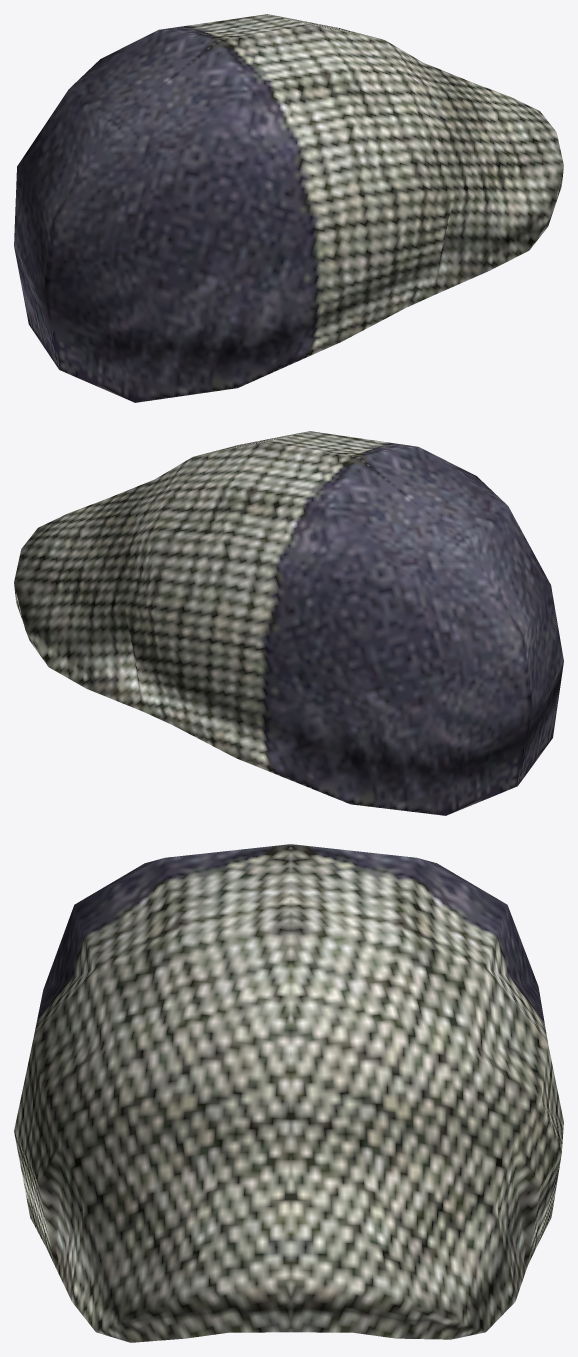
The model's file is hat_0400033.FBX.
The picture shows the model from 3 angles, top to bottom: view 1: azimuth 30°, elevation 25°; view 2: azimuth 150°, elevation 25°; view 3: azimuth 270°, elevation 25°; orthographic projection. The views are drawn at different scales.
Parts seen in each view (by area): view 1: hat_0400033; view 2: hat_0400033; view 3: hat_0400033.
Boxes of the visible parts, box(x1,y1,x2,y2) form: hat_0400033: box(14, 14, 563, 402); hat_0400033: box(14, 431, 563, 815); hat_0400033: box(14, 844, 563, 1342).
Bounding box in the file's own units: 34.55 × 19.4 × 23.06.
